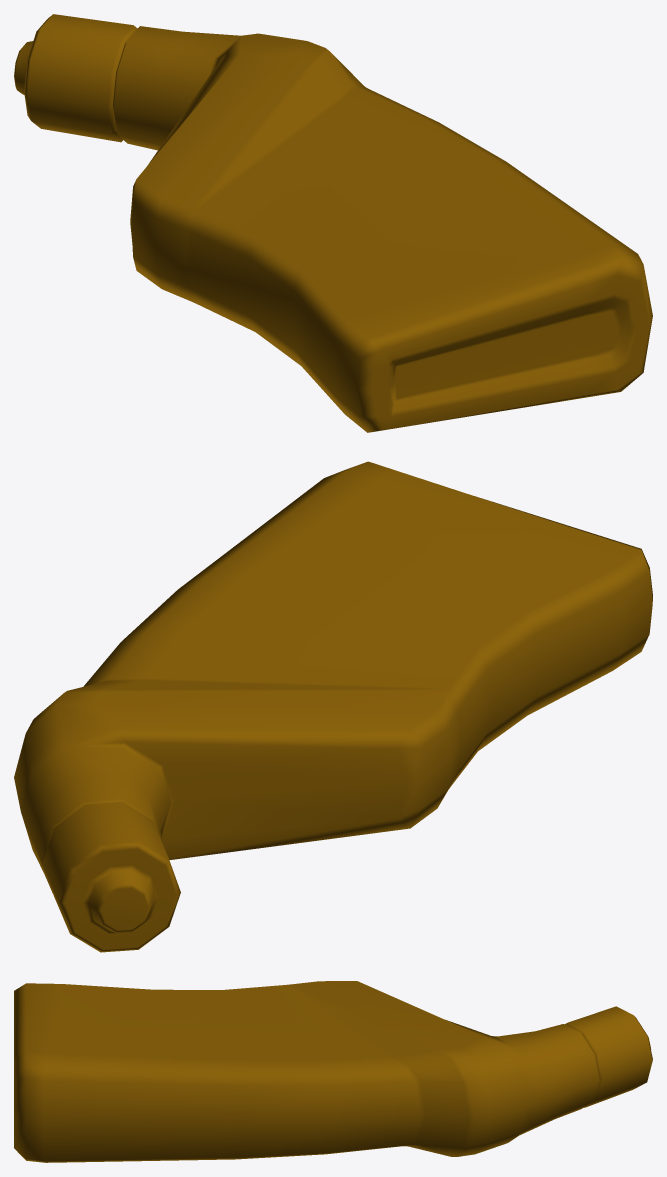
The model's file is SM_Can_01.fbx.
3 renders of one model, top to bottom at view 1: azimuth 30°, elevation 25°; view 2: azimuth 150°, elevation 25°; view 3: azimuth 270°, elevation 25°, orthographic. The views are drawn at different scales.
Visible parts, largest first — view 1: SM_Can_01; view 2: SM_Can_01; view 3: SM_Can_01.
Part boxes in pixels (x1,y1,x2,y2): SM_Can_01: (14, 14, 652, 432); SM_Can_01: (14, 461, 652, 952); SM_Can_01: (14, 981, 652, 1162).
Bounding box in the file's own units: 15.65 × 6.53 × 37.46.
